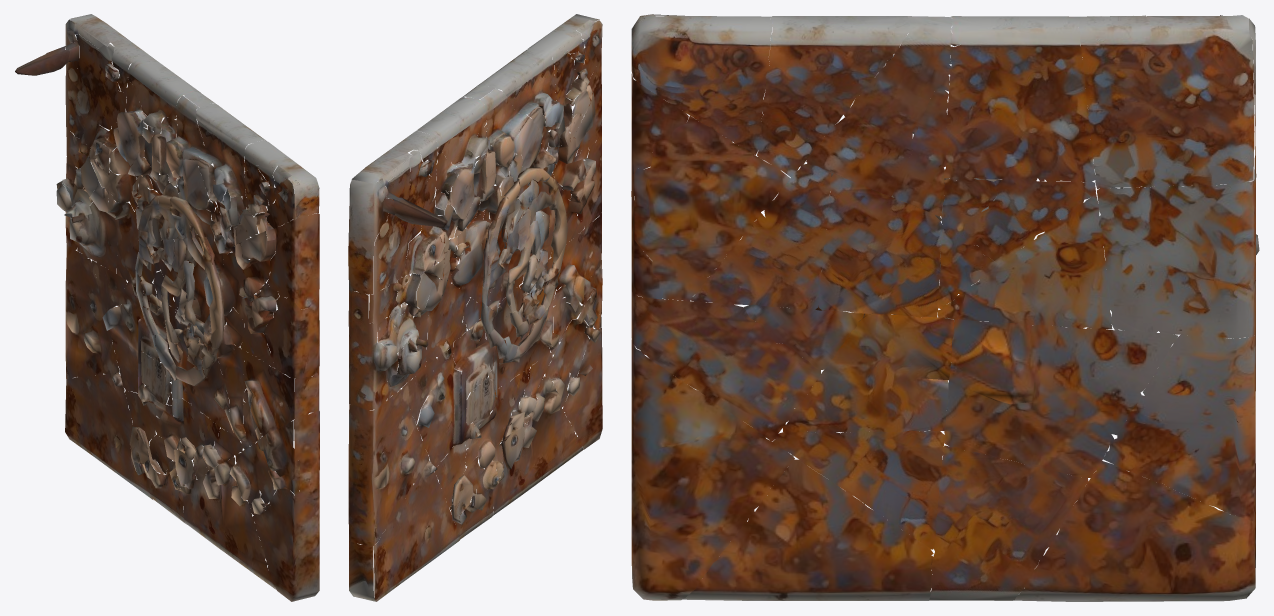
Rendered from steel_plate.glb.
3 views of the same model, side by side, from view 1: azimuth 30°, elevation 25°; view 2: azimuth 150°, elevation 25°; view 3: azimuth 270°, elevation 25° (orthographic). The views are drawn at different scales.
Visible parts, largest first — view 1: tripo_node_bd1692e7-2ec5-48da-876e-77464d995bb2; view 2: tripo_node_bd1692e7-2ec5-48da-876e-77464d995bb2; view 3: tripo_node_bd1692e7-2ec5-48da-876e-77464d995bb2.
Boxes of the visible parts, x1,y1,x2,y2 form: tripo_node_bd1692e7-2ec5-48da-876e-77464d995bb2: [15, 14, 319, 601]; tripo_node_bd1692e7-2ec5-48da-876e-77464d995bb2: [348, 14, 602, 601]; tripo_node_bd1692e7-2ec5-48da-876e-77464d995bb2: [631, 14, 1259, 601].
Size of the model in its own units: 0.2302 by 1 by 0.9905.
Materials: 1 (1 with a texture image).
